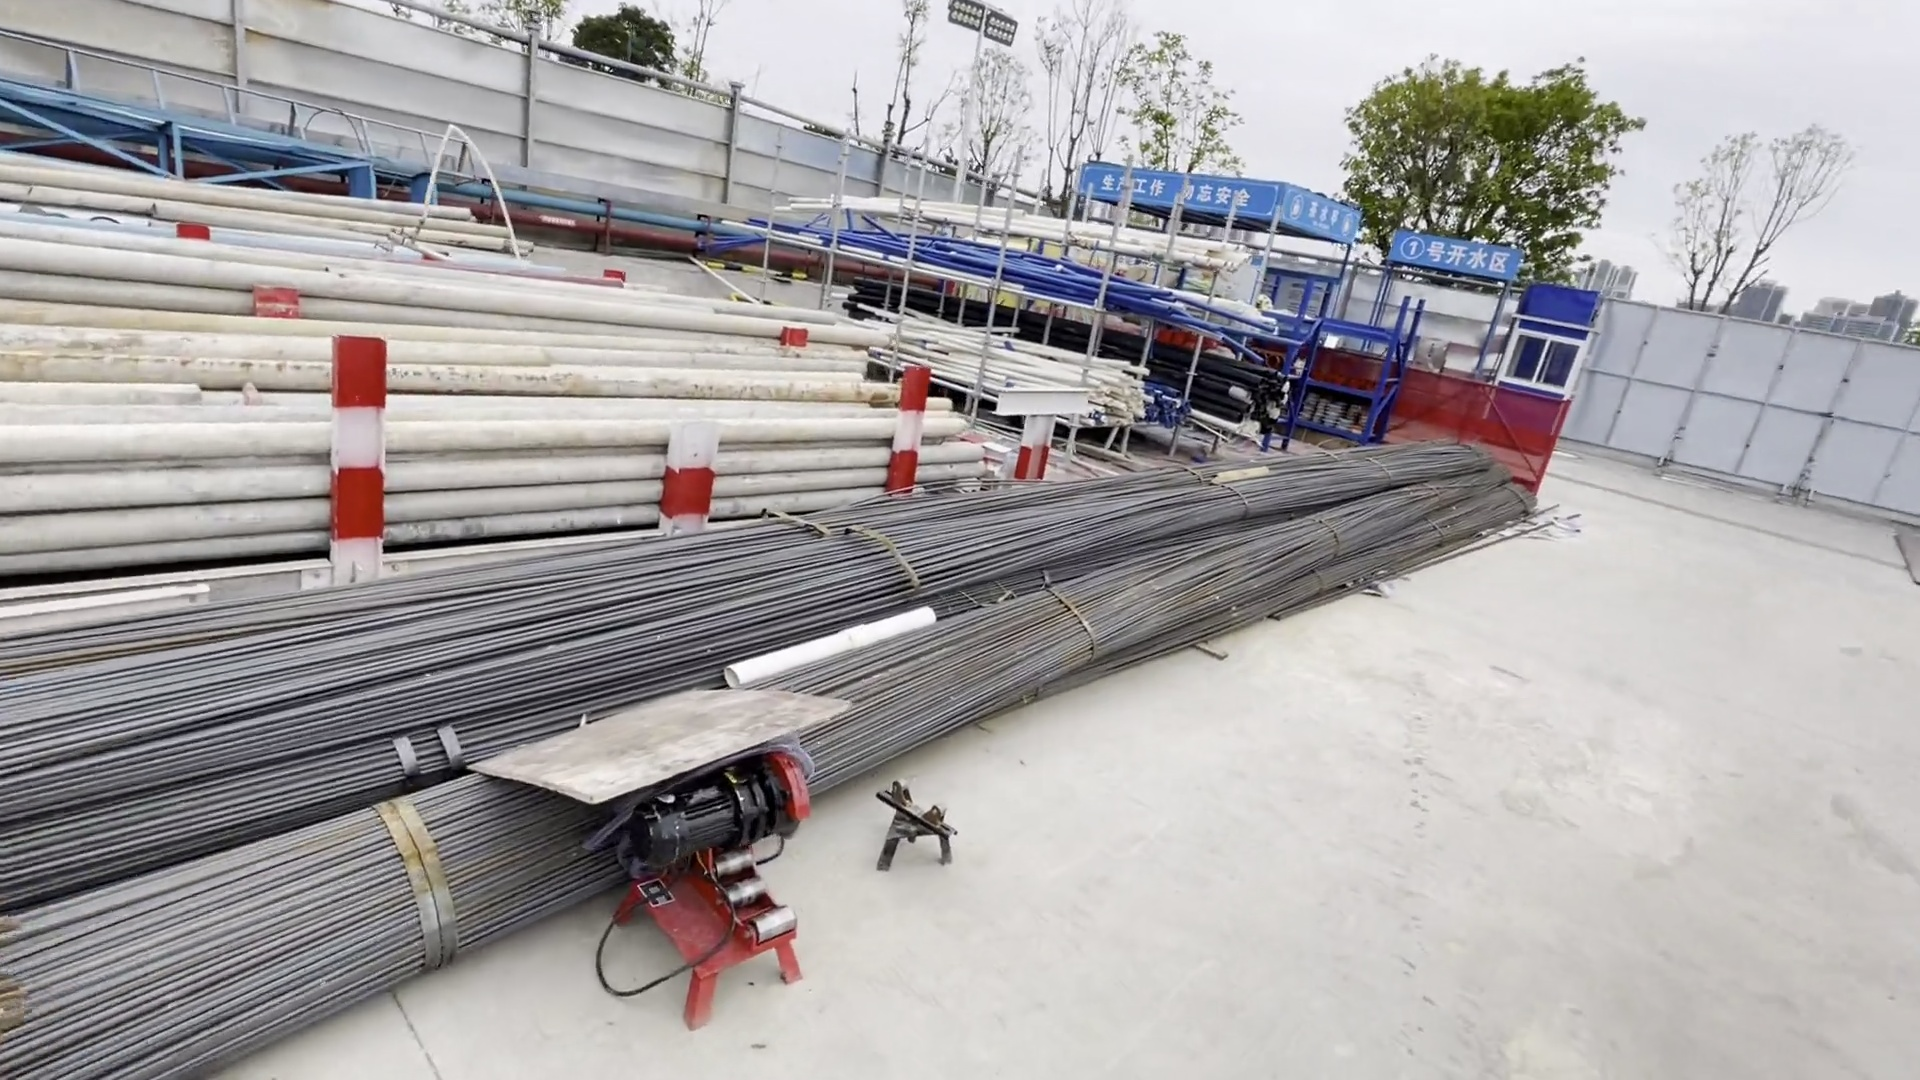cutter: (585, 752, 812, 1017)
fence: (1341, 355, 1560, 512)
rebar: (15, 440, 1553, 1080)
slogan: (1089, 164, 1257, 214)
